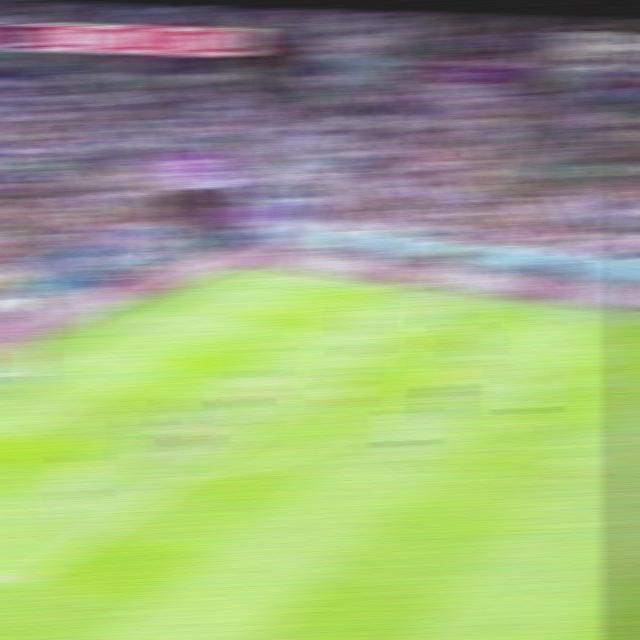bigarea_bottom_inner: (0, 567, 42, 595)
bigarea_top_inner: (368, 337, 401, 356)
bigarea_top_outter: (155, 309, 181, 319)
bottom_arc_area_intersection: (162, 465, 201, 488)
corner: (242, 274, 269, 280)
smallarea_top_inner: (137, 359, 163, 371)
smallarea_top_outter: (64, 347, 92, 358)
top_arc_area_intersection: (286, 388, 323, 407)
